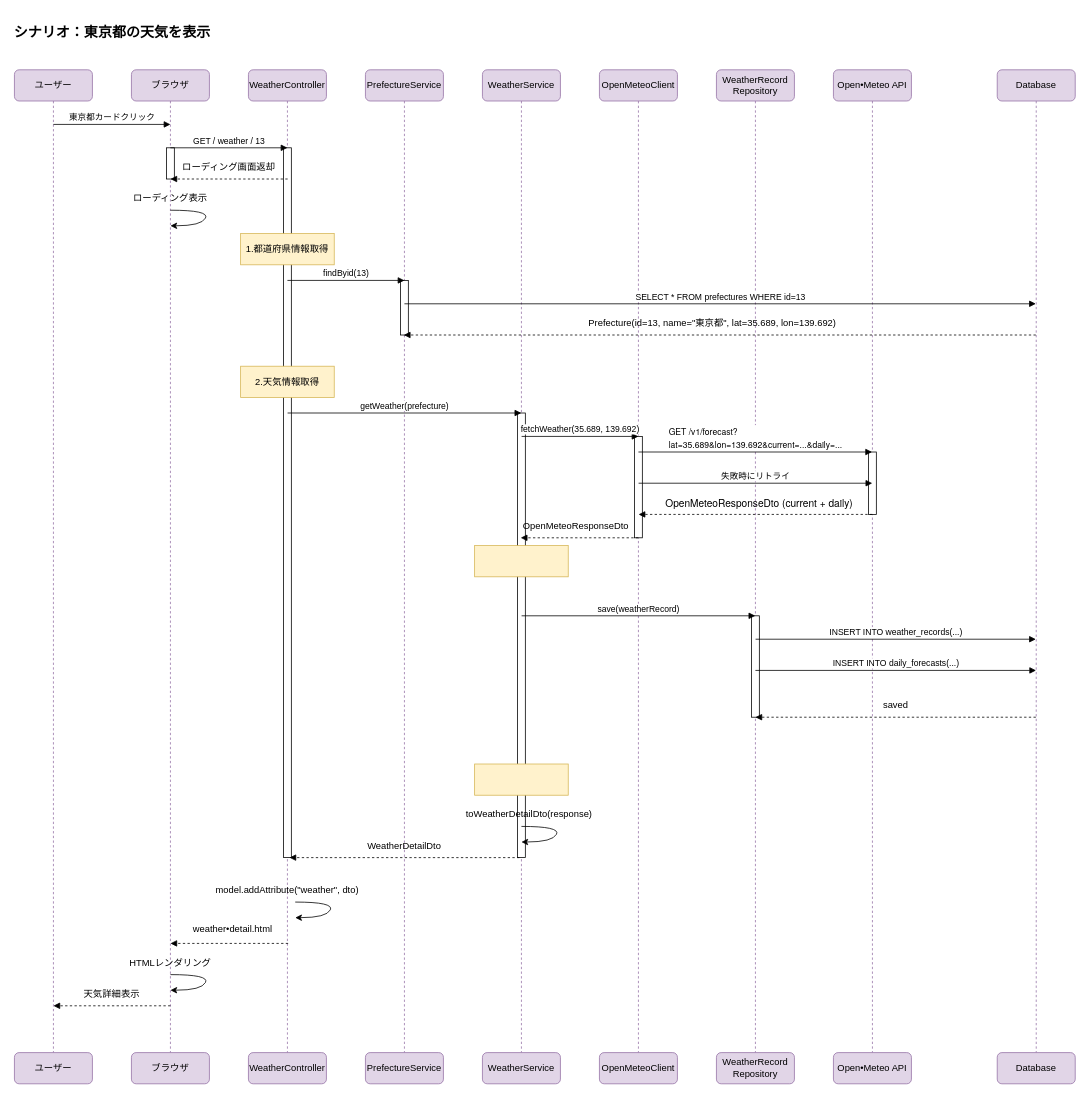
Some shapes in this 1089 by 1097 pixel diagram are drawn without their labels. The centre of each missing label's shape, as x and y in pixels:
"3.データベースに保存" goes at point 521,561.
"4.DTO変換" goes at point 521,779.
